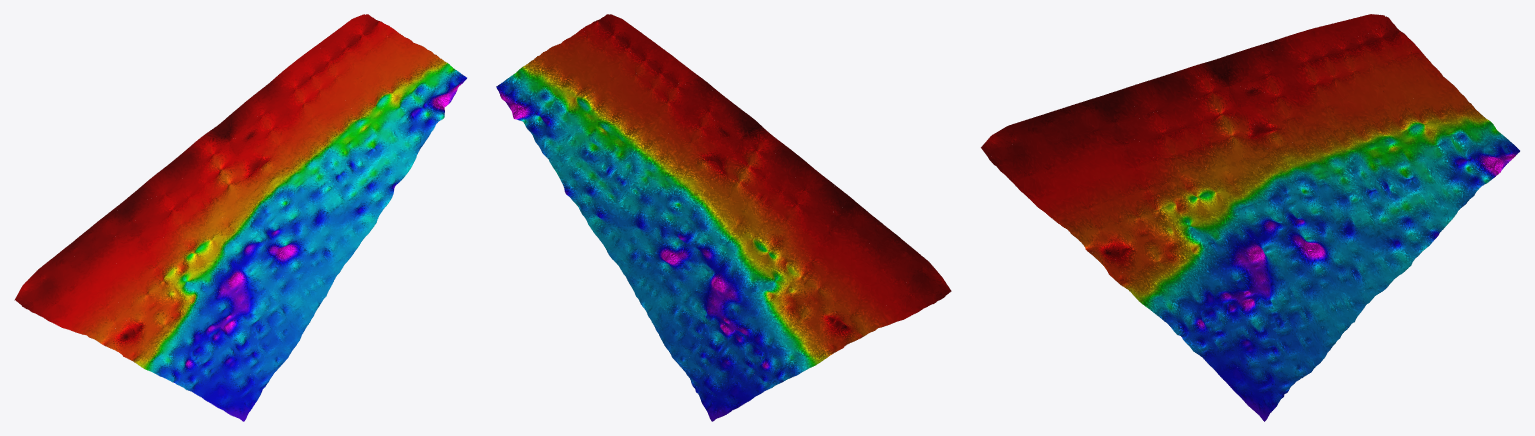
File: Topo_Eoceno.glb
3 views of the same model, side by side, from view 1: azimuth 30°, elevation 25°; view 2: azimuth 150°, elevation 25°; view 3: azimuth 330°, elevation 25° (orthographic). The views are drawn at different scales.
Parts seen in each view (by area): view 1: Surface; view 2: Surface; view 3: Surface.
Boxes of the visible parts, x1,y1,x2,y2 form: Surface: (14, 14, 466, 421); Surface: (496, 14, 951, 421); Surface: (981, 14, 1519, 421).
Size of the model in its own units: 394250 by 315750 by 20056.
Materials: 1 (1 with a texture image).
